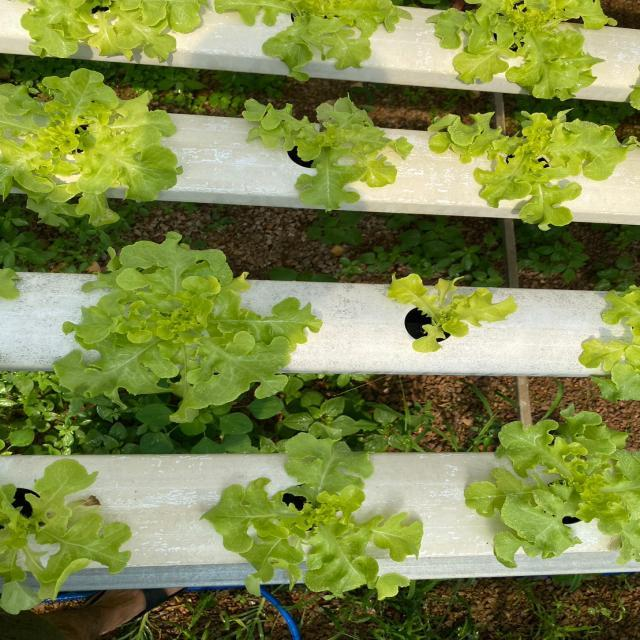Lettuce-Not-Ready-to-Harvest: (55, 232, 321, 422), (204, 434, 422, 599), (0, 69, 180, 225), (465, 410, 640, 567), (429, 111, 628, 229), (0, 460, 131, 613), (242, 98, 412, 209), (429, 0, 615, 99), (215, 0, 409, 79), (21, 0, 204, 61), (388, 274, 516, 352)
